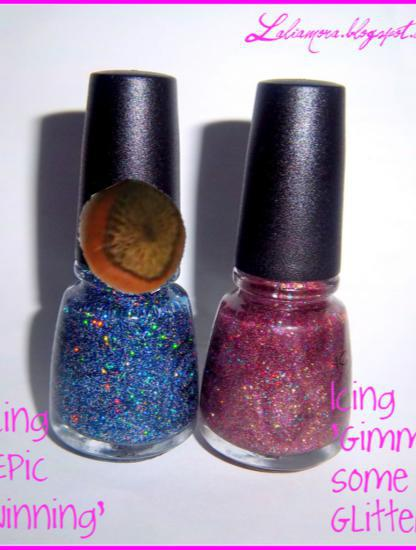Nut: (76, 181, 192, 297)
